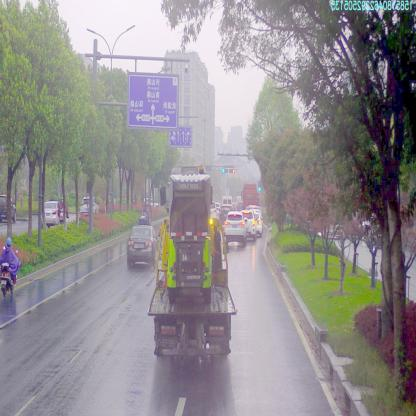traffic-light: (229, 166, 236, 172), (221, 168, 227, 173)
